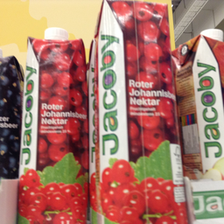juice: (93, 1, 188, 223), (18, 27, 90, 224)
